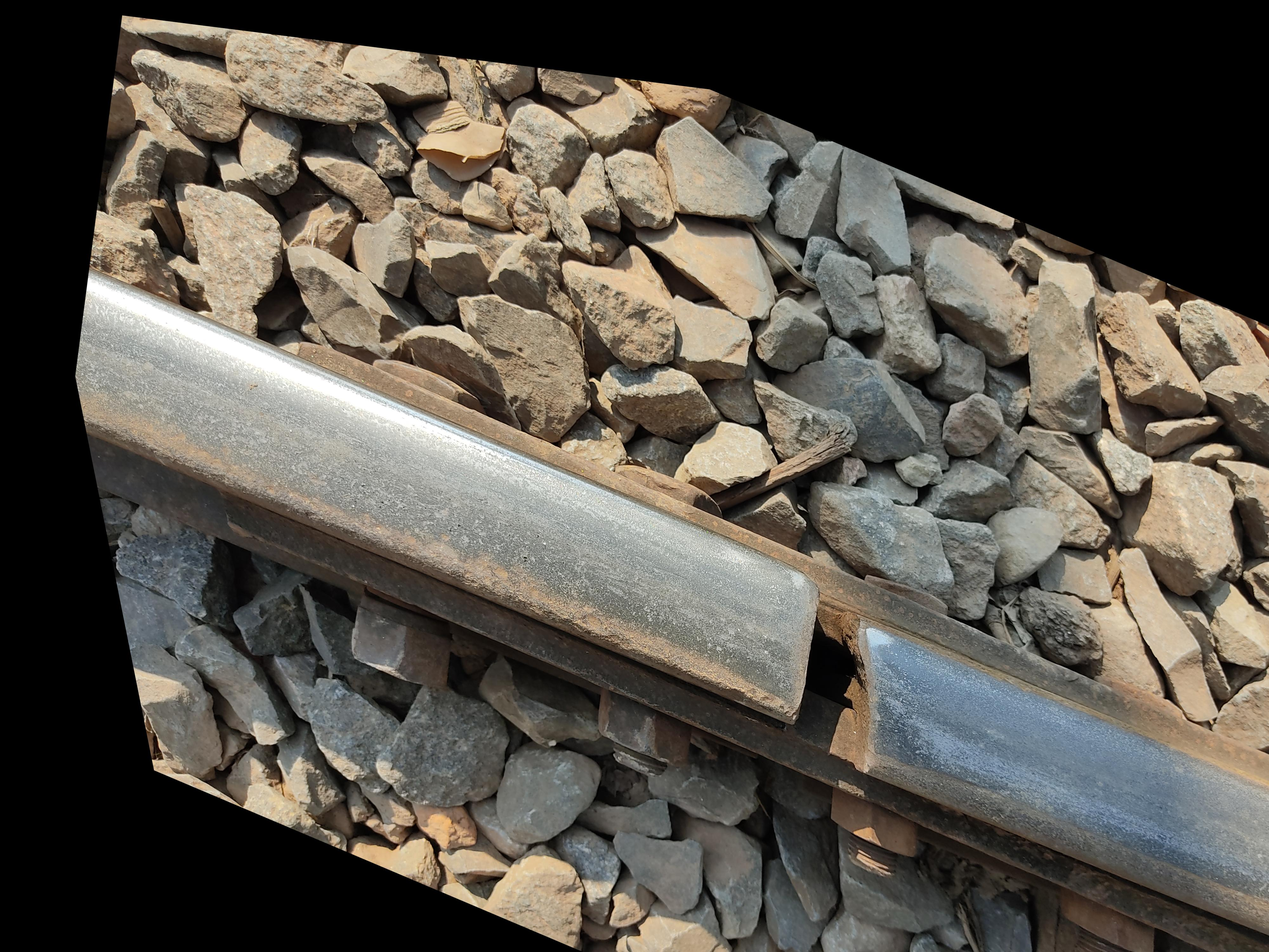person: (770, 346, 1123, 677)
